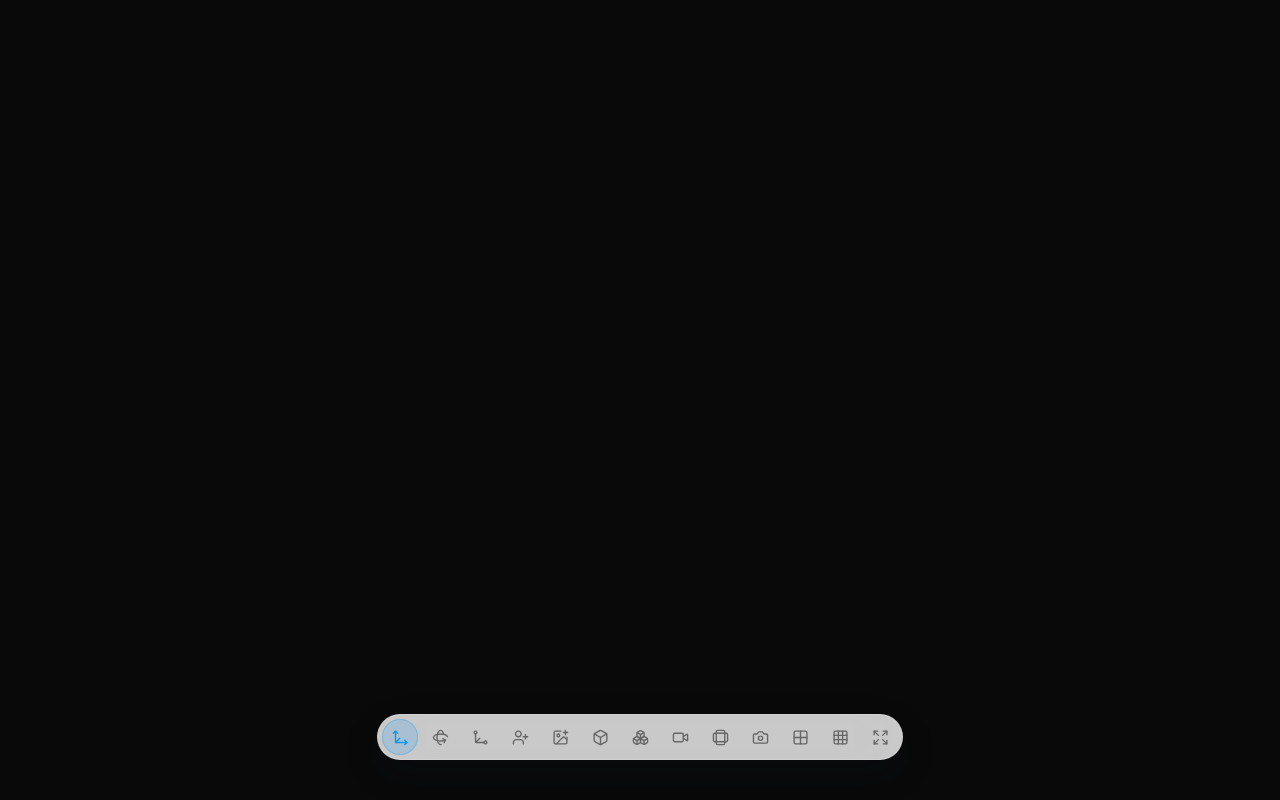
Test: opens the aspect ratio panel from the viewport capsule with the supported presets
Click the button named "选择画幅比例": (720, 737) [702, 719, 738, 755]
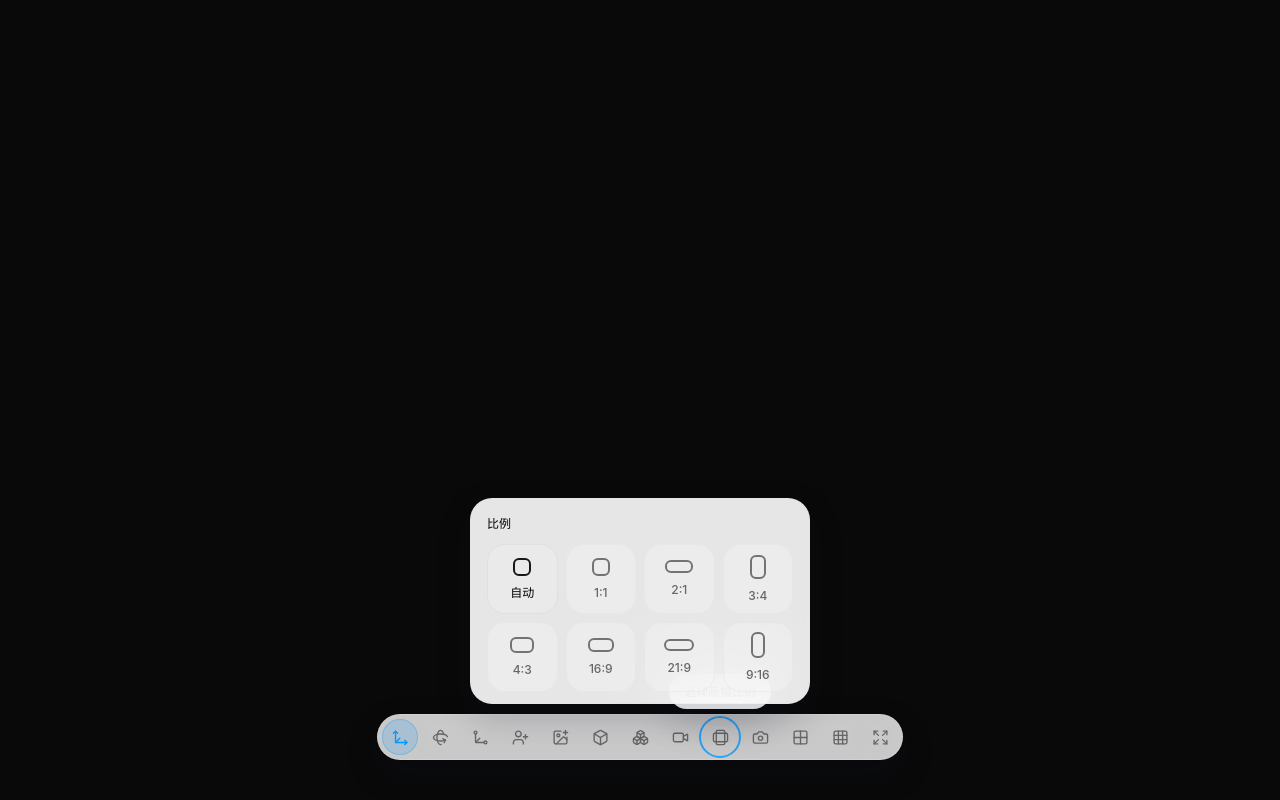
Result: the dialog "比例" is shown at [470, 498, 810, 704]
Result: the button "1:1" is shown at [566, 544, 636, 614]
Result: the button "2:1" is shown at [644, 544, 714, 614]
